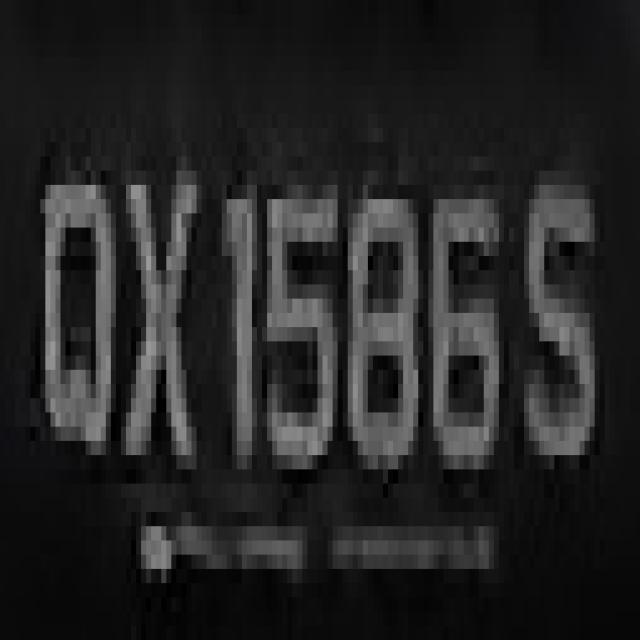1: (217, 100, 272, 483)
5: (257, 142, 333, 526)
6: (433, 171, 509, 512)
8: (338, 142, 433, 498)
Q: (30, 142, 121, 470)
S: (514, 142, 605, 555)
X: (116, 114, 196, 512)
